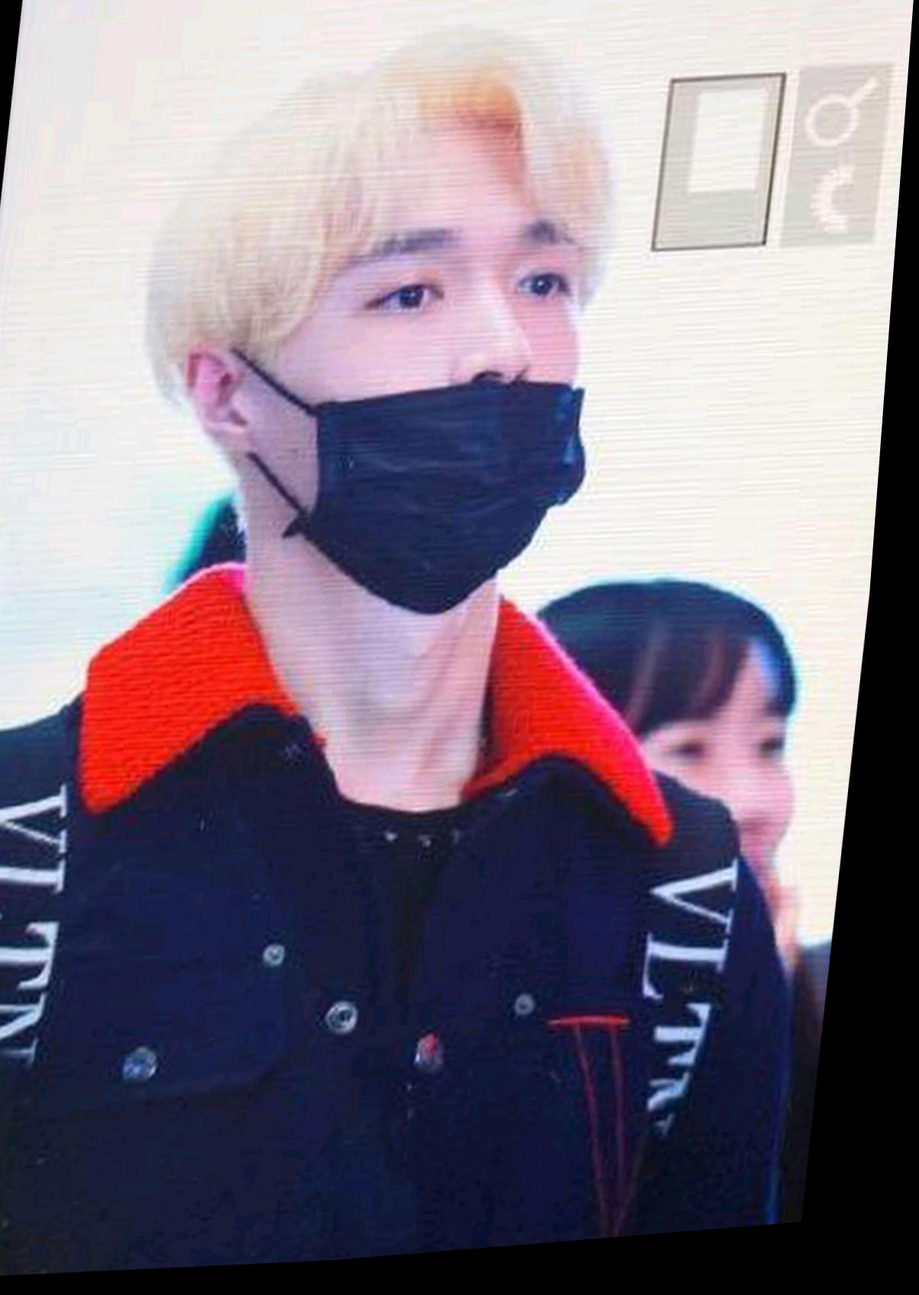NONE: (604, 691, 821, 969)
WRONG: (260, 162, 617, 630)
